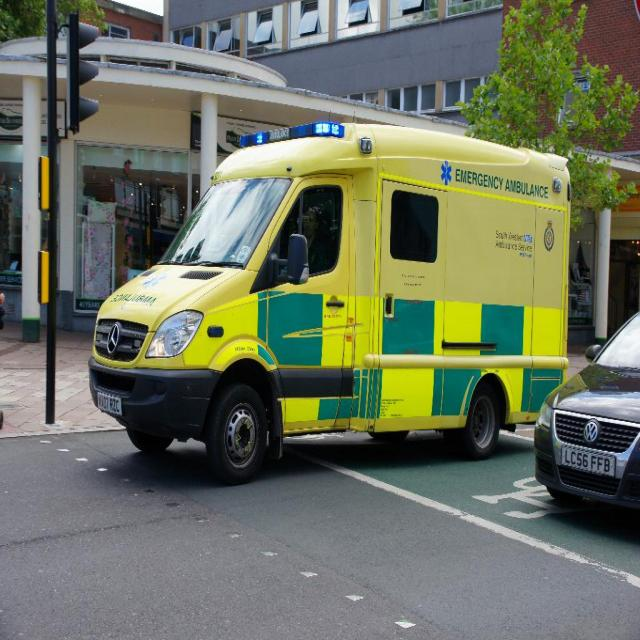Ambulance: (89, 120, 574, 480)
